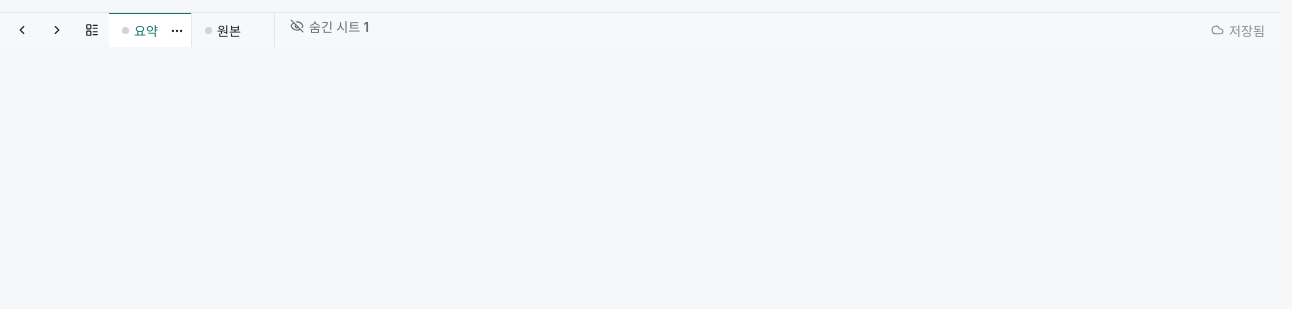
Scenario: SheetTabs context menu › disables editing actions in read only workbooks
Right-click the button "요약": (150, 30) top-left (109, 13), bottom-right (191, 47)
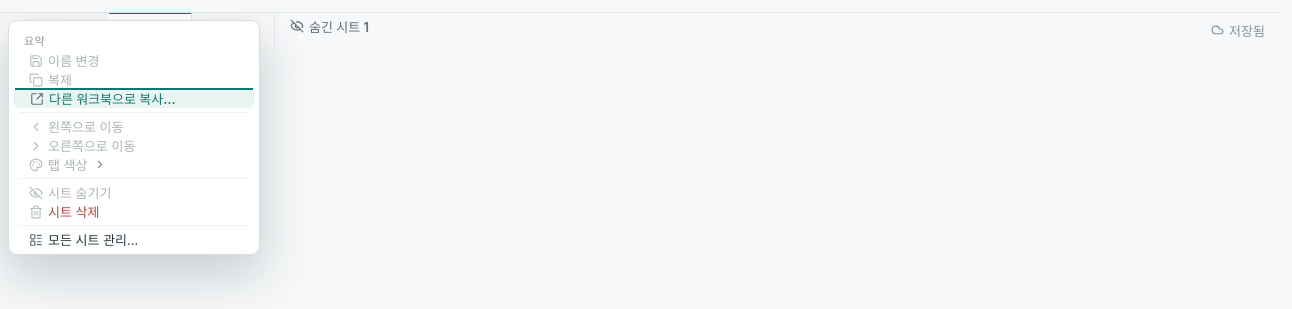
Check: the menu item "시트 삭제" is disabled, box top-left (14, 202), bottom-right (254, 221)
